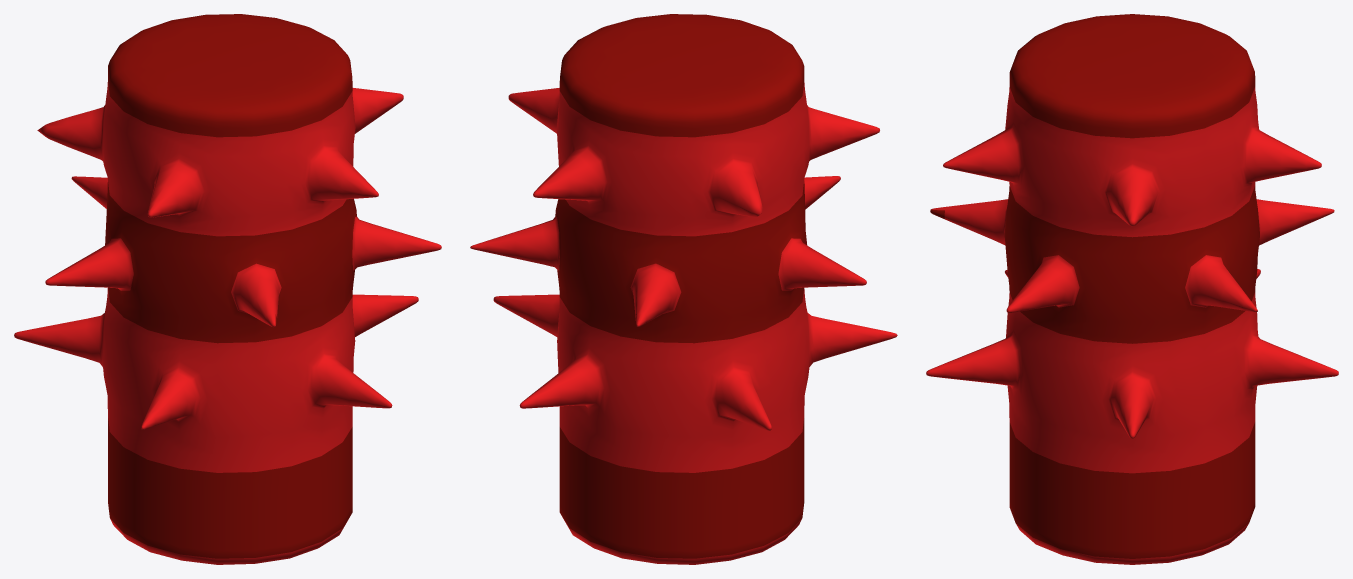
Rendered from CilinderOpsticle.fbx.
3 views of the same model, side by side, from view 1: azimuth 30°, elevation 25°; view 2: azimuth 150°, elevation 25°; view 3: azimuth 270°, elevation 25° (orthographic).
Parts seen in each view (by area): view 1: Cylinder; view 2: Cylinder; view 3: Cylinder.
Boxes of the visible parts, x1,y1,x2,y2 form: Cylinder: [14, 14, 441, 564]; Cylinder: [470, 14, 897, 564]; Cylinder: [926, 14, 1338, 564].
Size of the model in its own units: 327 by 393 by 315.
